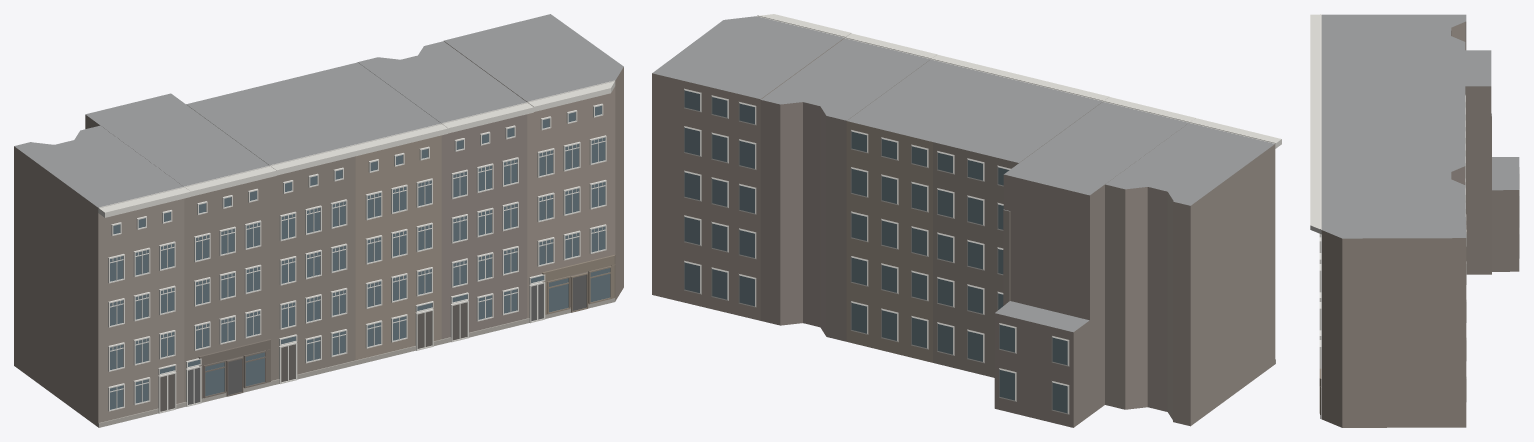
The model's file is chunk-face-nias-1-13-r1.glb.
3 renders of one model, left to right at view 1: azimuth 30°, elevation 25°; view 2: azimuth 150°, elevation 25°; view 3: azimuth 270°, elevation 25°, orthographic. The views are drawn at different scales.
Visible parts, largest first — view 1: face-nias-1-13-r1; view 2: face-nias-1-13-r1; view 3: face-nias-1-13-r1.
Part boxes in pixels (left/top/right/bottom): face-nias-1-13-r1: left=14, top=14, right=623, bottom=427; face-nias-1-13-r1: left=652, top=14, right=1281, bottom=427; face-nias-1-13-r1: left=1310, top=14, right=1519, bottom=427.
Size of the model in its own units: 37.6 by 14.8 by 14.8.
